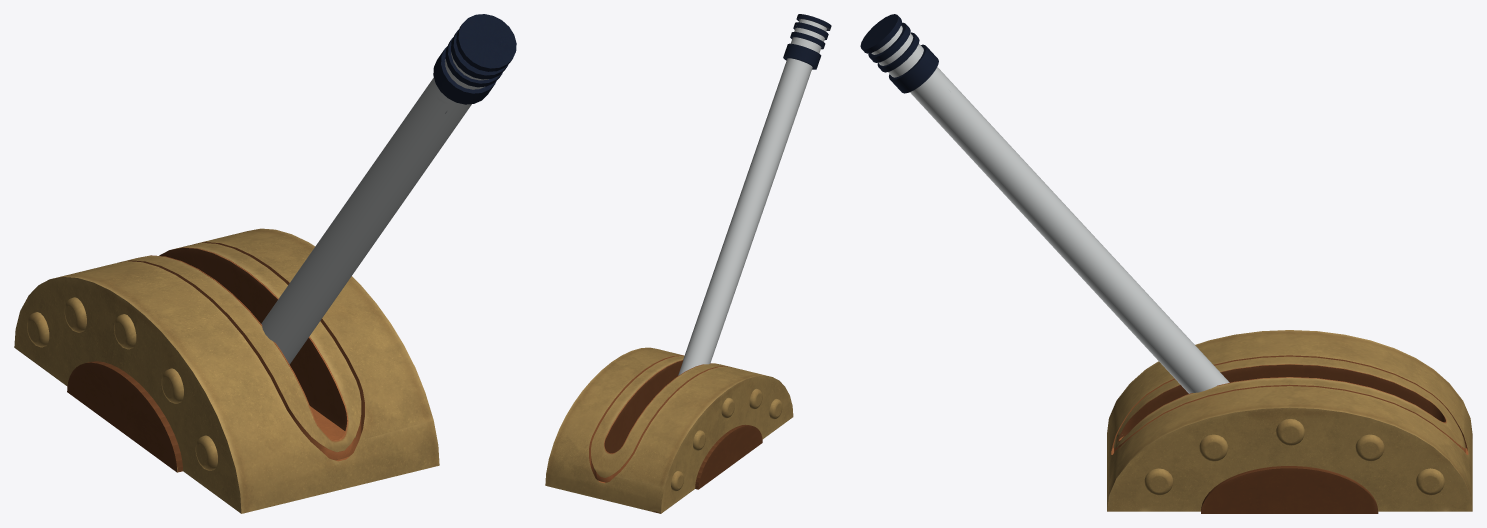
The model's file is Lever.fbx.
The picture shows the model from 3 angles, left to right: view 1: azimuth 30°, elevation 25°; view 2: azimuth 150°, elevation 25°; view 3: azimuth 270°, elevation 25°; orthographic projection. The views are drawn at different scales.
Visible parts, largest first — view 1: LeverBase, lever baked; view 2: LeverBase, lever baked; view 3: LeverBase, lever baked.
Part boxes in pixels (box(x1,y1,x2,y2)): LeverBase: box(14, 228, 439, 513); lever baked: box(261, 14, 516, 364); LeverBase: box(545, 347, 793, 513); lever baked: box(678, 14, 831, 375); LeverBase: box(1107, 330, 1472, 513); lever baked: box(860, 14, 1229, 393).
Bounding box in the file's own units: 0.2041 × 0.5381 × 0.6324.
